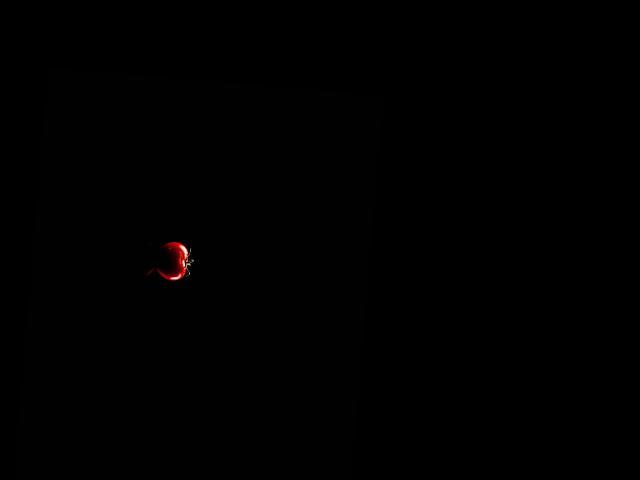tomato: (156, 240, 190, 281)
